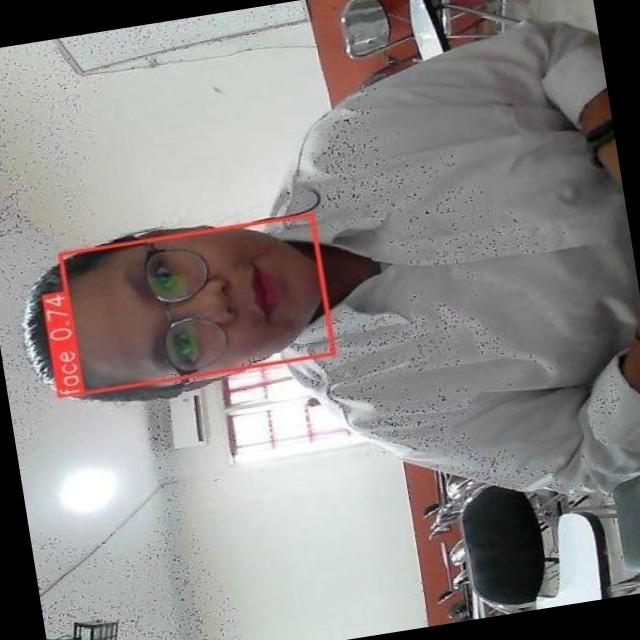bareface: (24, 216, 340, 402)
